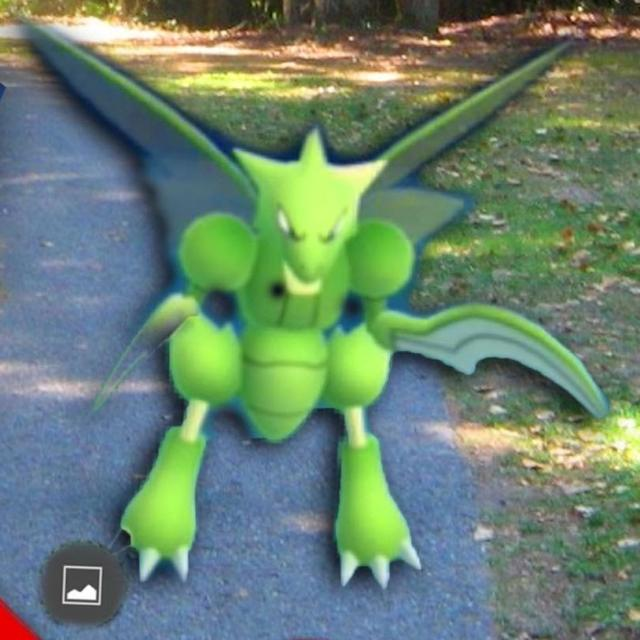Scyther: (99, 93, 500, 593)
